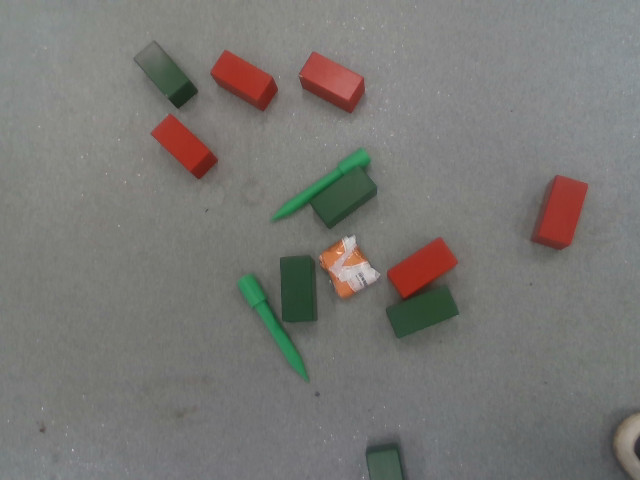Probe: (234, 272, 311, 384), (267, 144, 373, 223)
